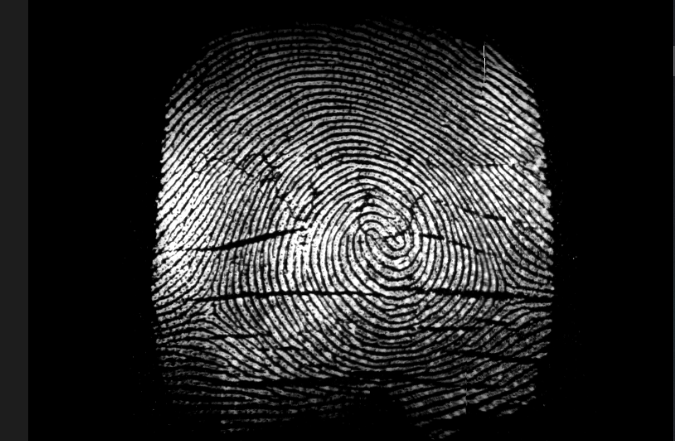nucelo: (353, 221, 406, 271)
verticilo: (194, 287, 230, 326), (494, 277, 524, 304)
